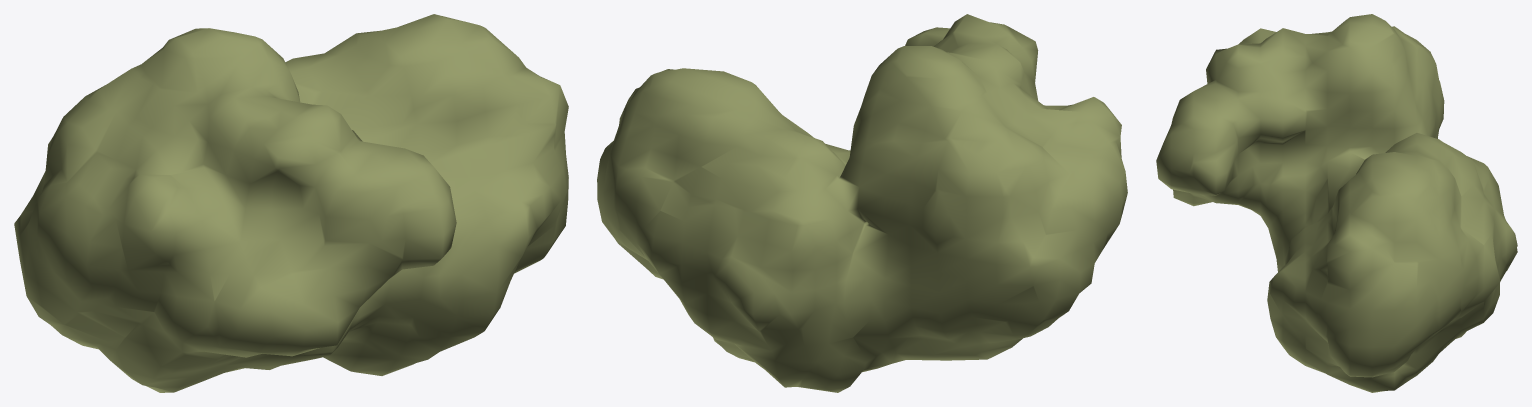
Rendered from monomer3PGK.fbx.
3 views of the same model, side by side, from view 1: azimuth 30°, elevation 25°; view 2: azimuth 150°, elevation 25°; view 3: azimuth 270°, elevation 25° (orthographic). The views are drawn at different scales.
Visible parts, largest first — view 1: CoarseMS_3PGK_1; view 2: CoarseMS_3PGK_1; view 3: CoarseMS_3PGK_1.
Part boxes in pixels (box(x1,y1,x2,y2)): CoarseMS_3PGK_1: box(14, 14, 568, 392); CoarseMS_3PGK_1: box(597, 14, 1127, 392); CoarseMS_3PGK_1: box(1156, 14, 1517, 392).
Size of the model in its own units: 81.58 by 56.08 by 61.37.
